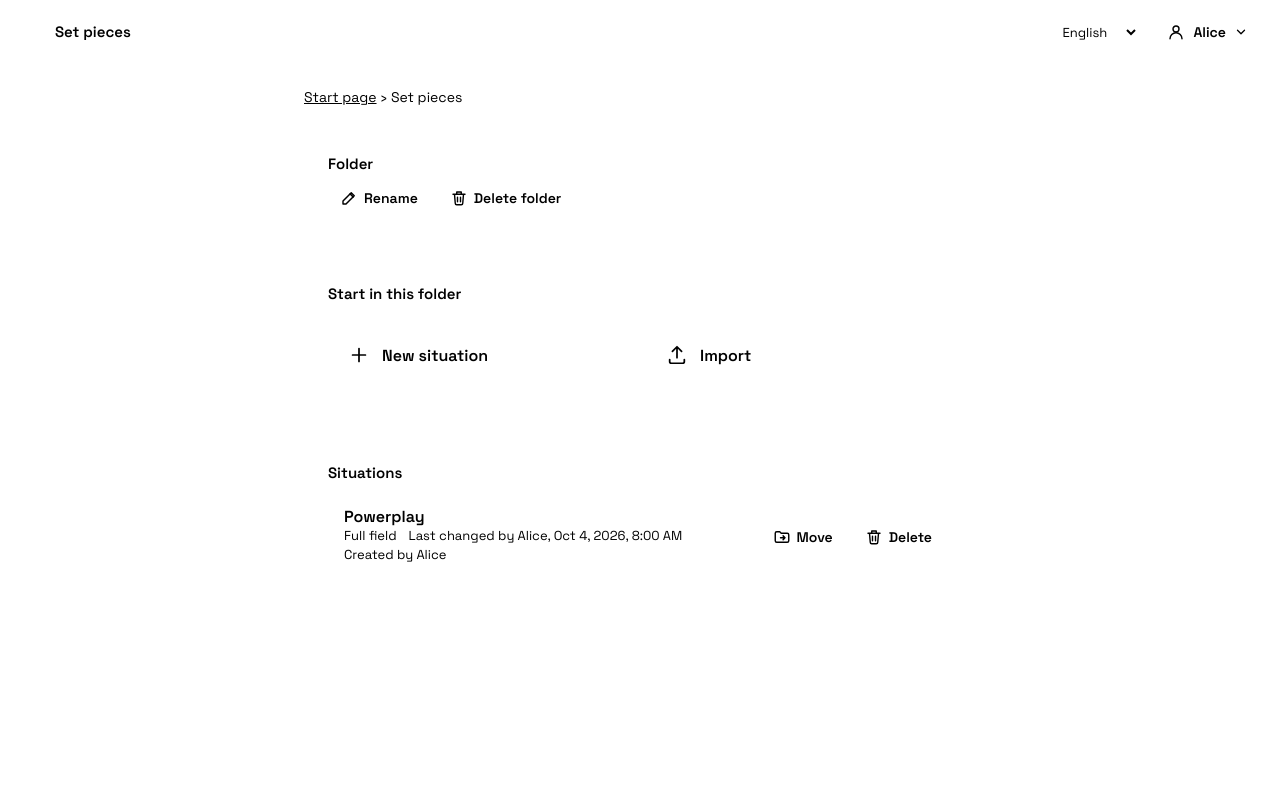
Test: folder page › forgets the “can't be deleted” reason once a situation was moved out
Click the button "Delete folder": (506, 198) [438,189,573,207]
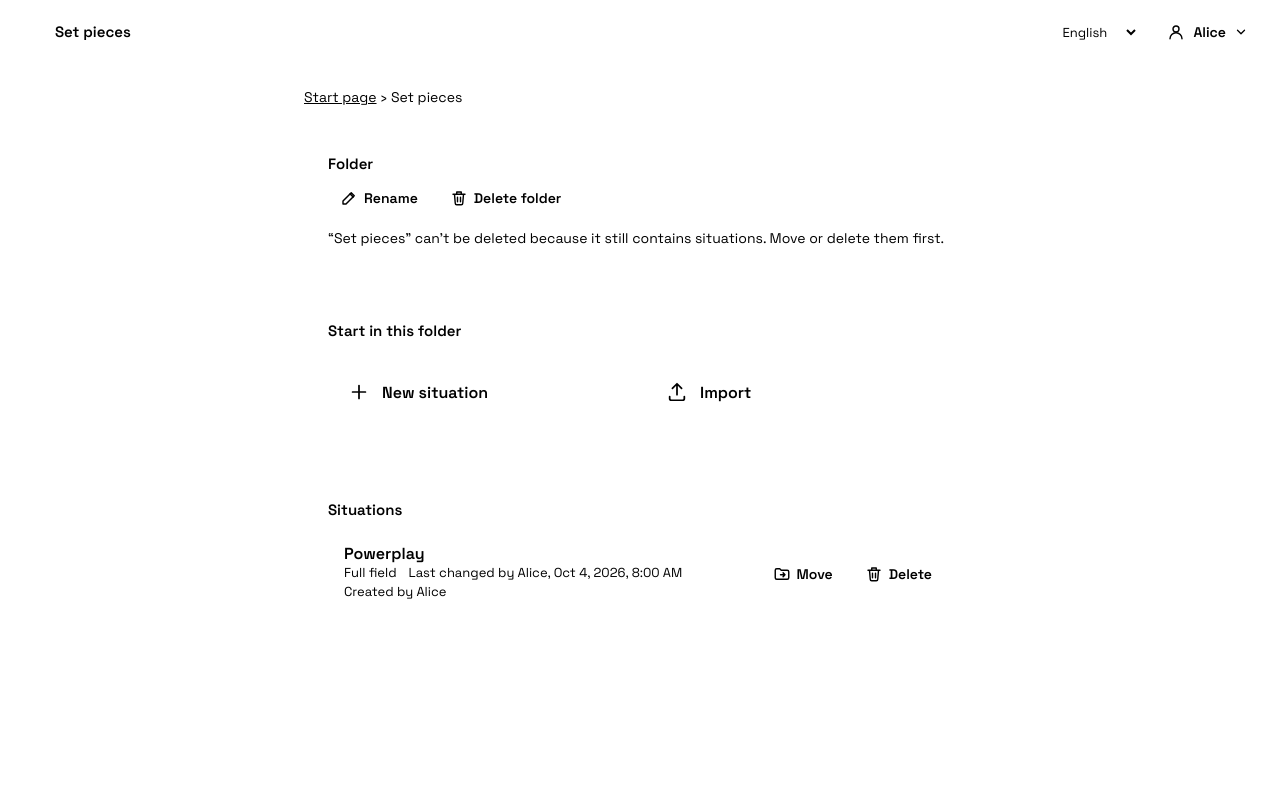
Check: the message is shown, box [328,228,952,249]
Click the button with aria-label "Move “Powerplay”": (803, 574) [760,564,845,582]
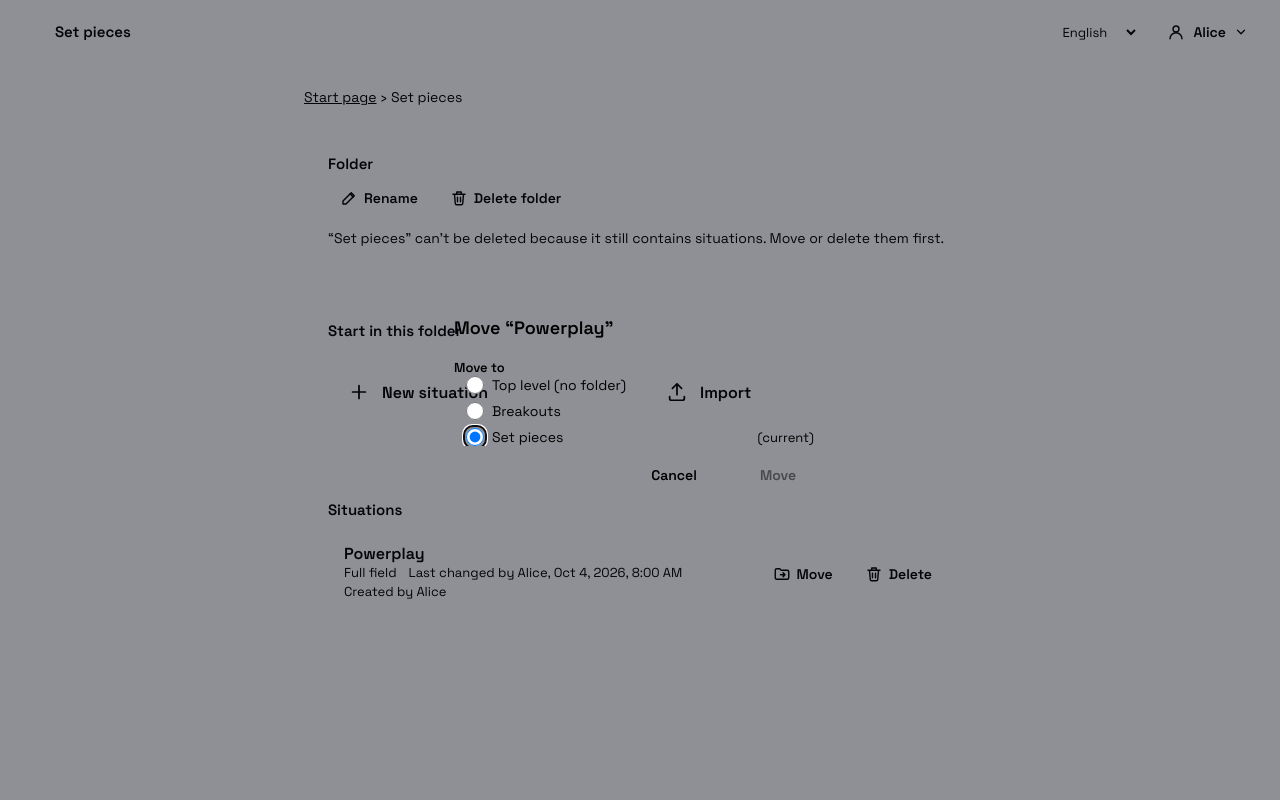
Click the radio button labelled "Top level (no folder)": (475, 385) [466,376,484,394]
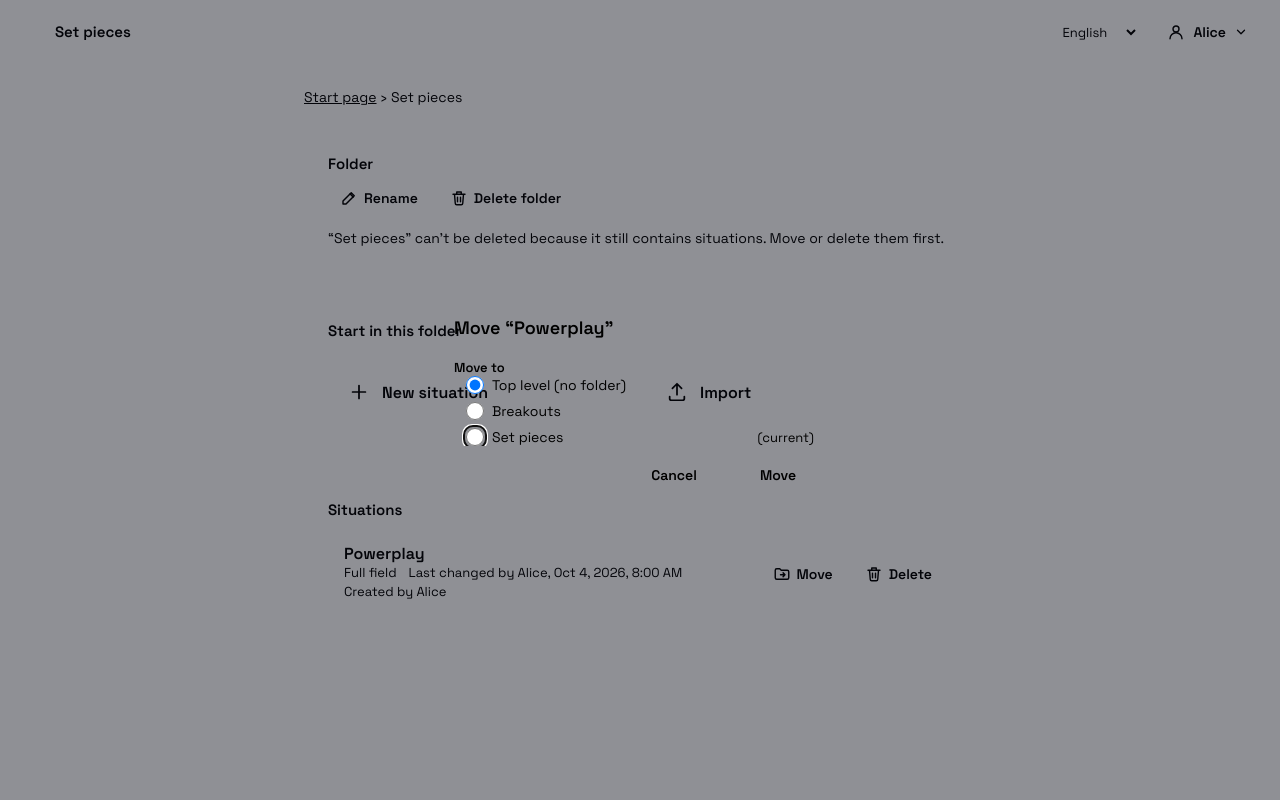
Click the button "Move": (778, 475) [730,466,826,484]
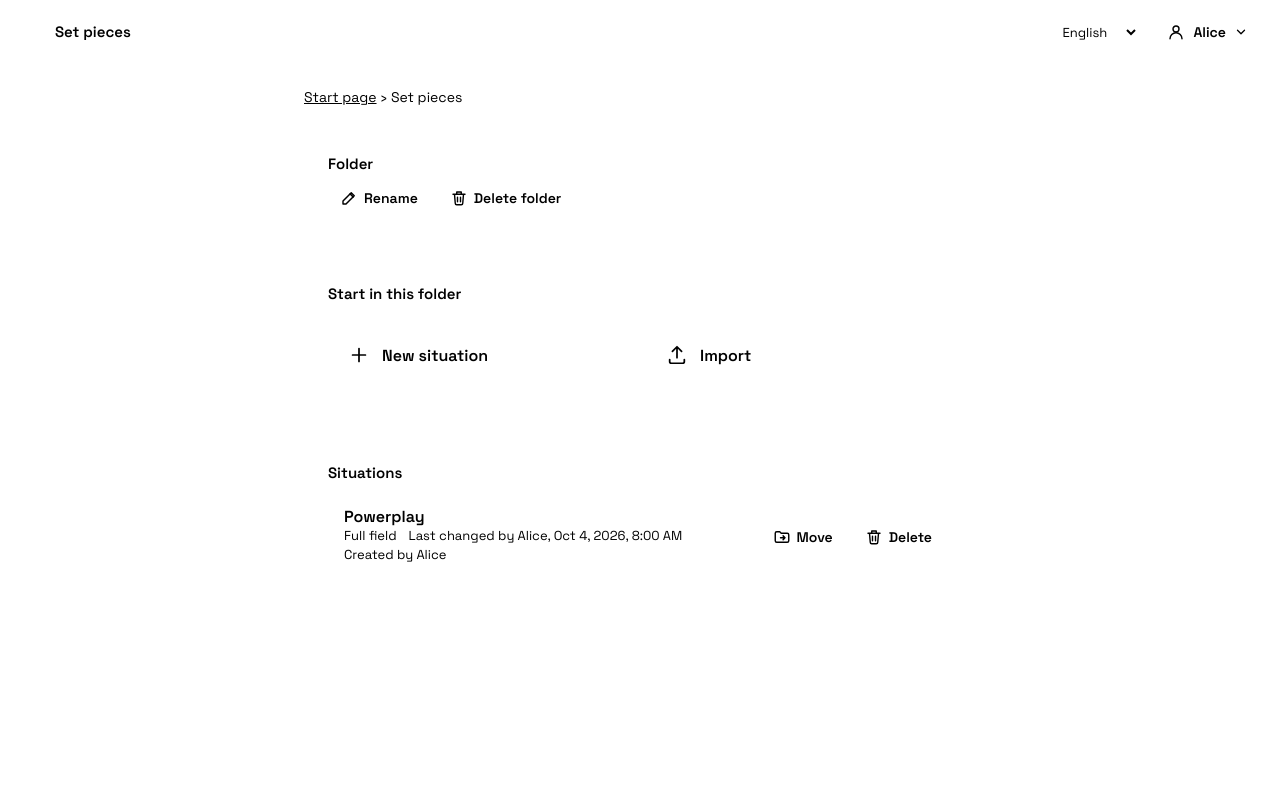
Check: the message is gone
